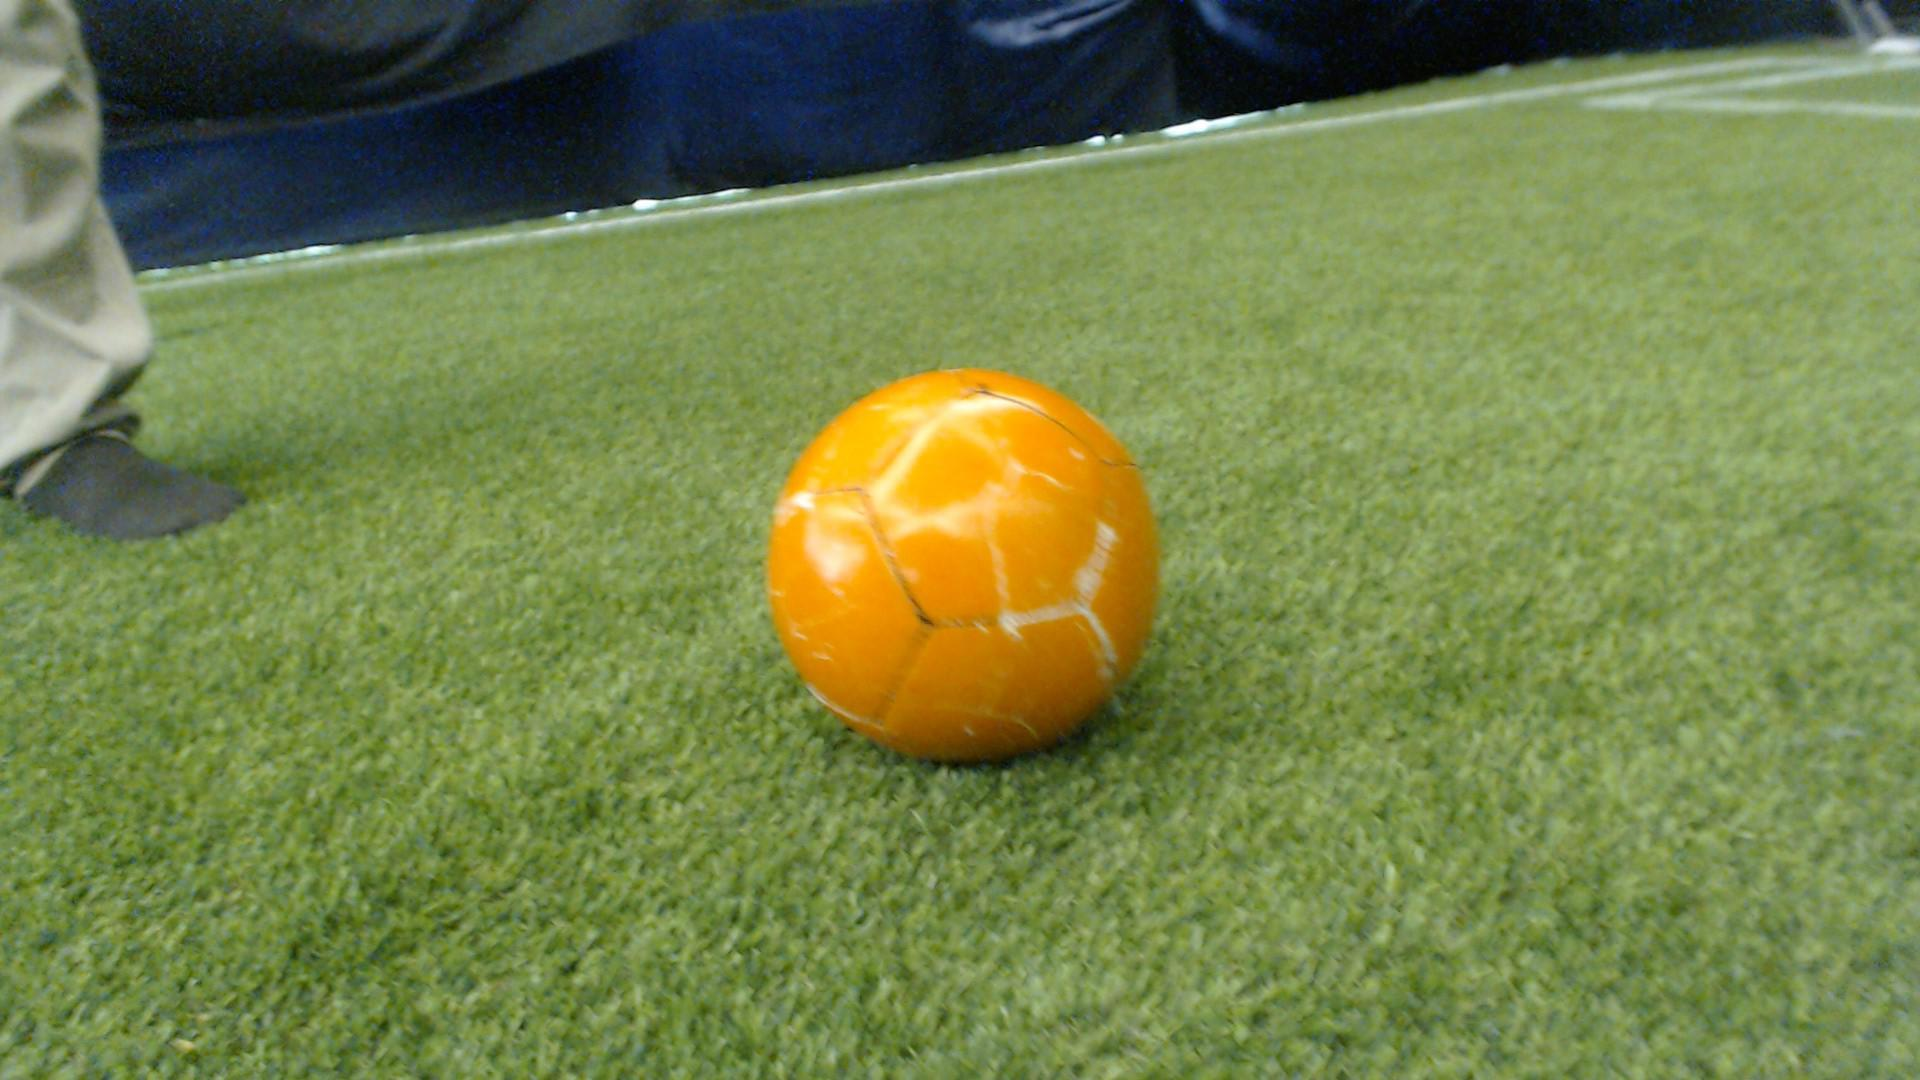bola: (752, 349, 1185, 777)
